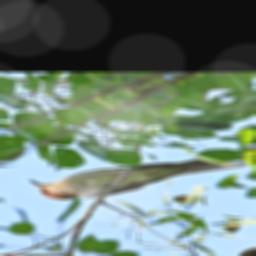Cuckoo: (20, 108, 256, 230)
